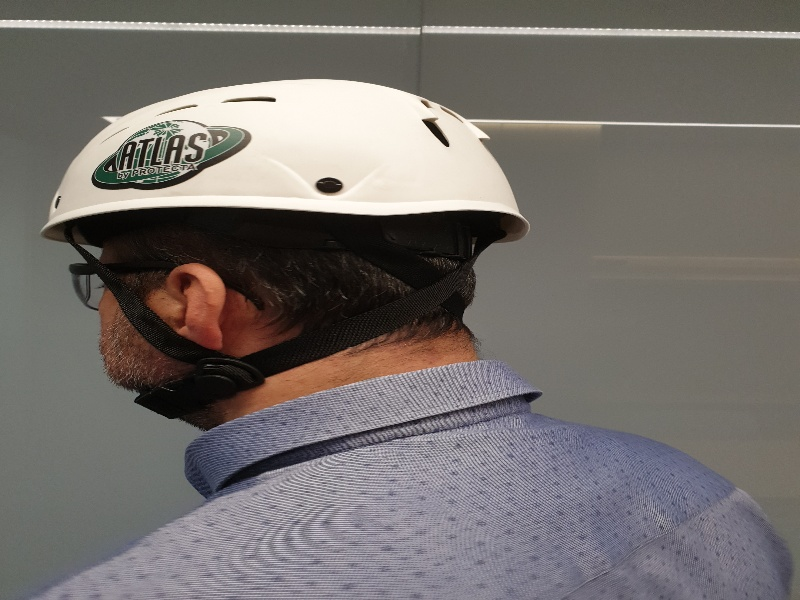Baret: (52, 87, 563, 235)
Gozluk: (59, 261, 112, 313)
